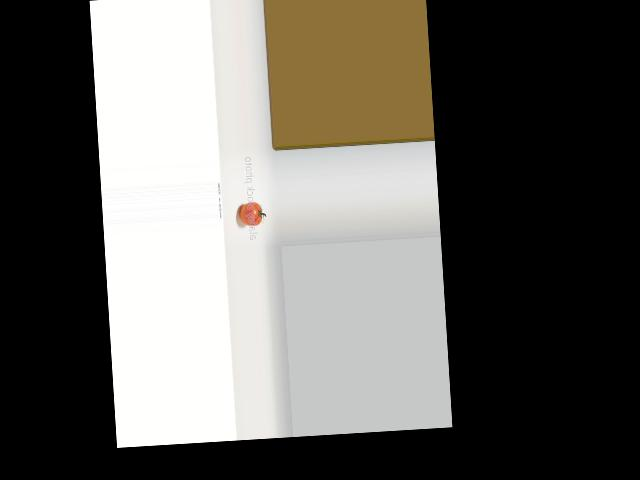tomato: (239, 201, 262, 226)
